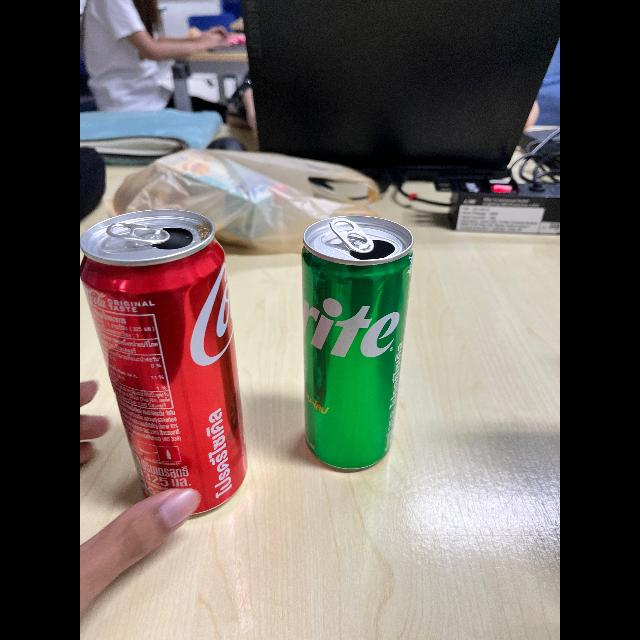can: (80, 194, 252, 524), (291, 210, 413, 468)
